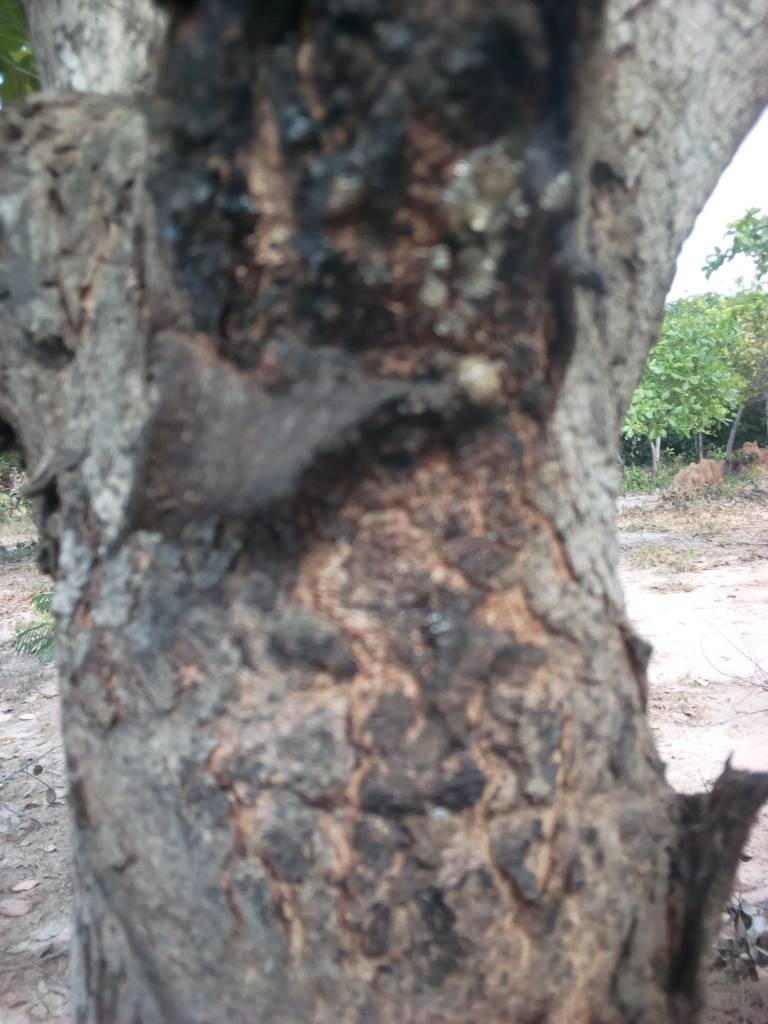Gommose: (165, 24, 590, 946)
